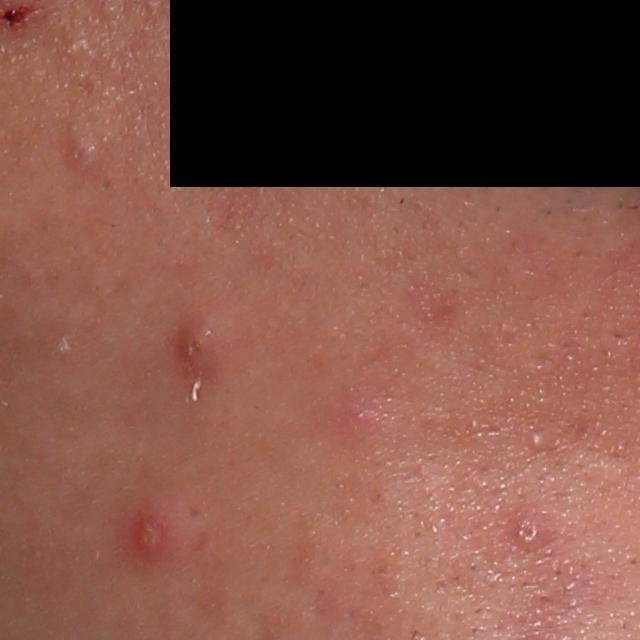comedo: (58, 130, 117, 186), (500, 498, 558, 554)
papule: (165, 304, 223, 397), (329, 387, 392, 443)
pustule: (122, 503, 191, 570), (525, 423, 553, 455)
